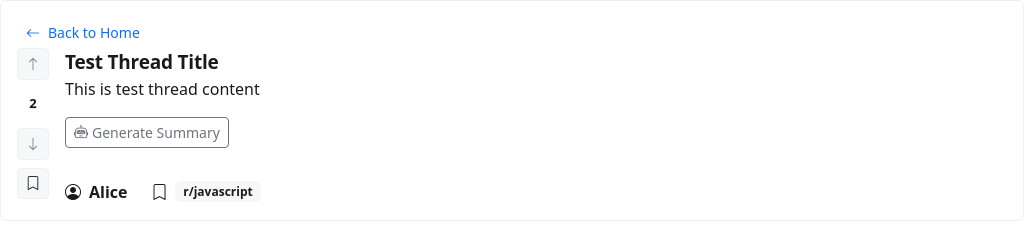
it: ThreadCard Component › toggles to saved when the bookmark button is clicked
Click the button named "save thread".
click(33, 183)  # box [17,168,49,198]
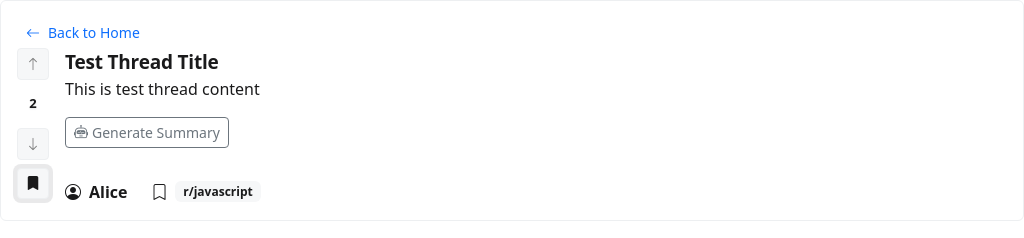
Result: the button named "unsave thread" is shown at [17,168,49,198]
